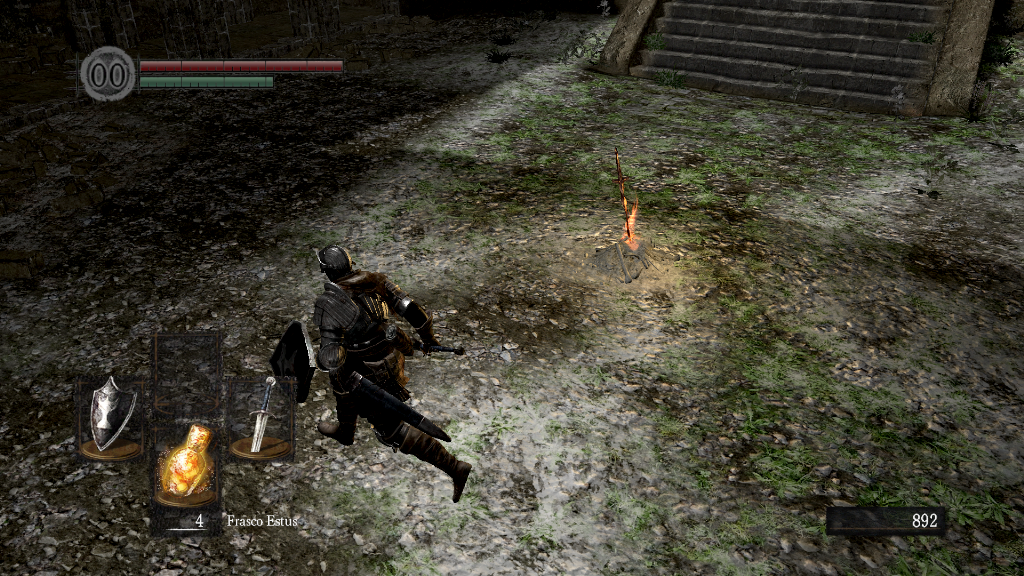bonfire: (582, 145, 671, 285)
health: (138, 58, 343, 71)
humanity: (80, 45, 136, 102)
player: (267, 244, 478, 504)
souls: (825, 506, 945, 536)
stamina: (138, 74, 274, 88)
